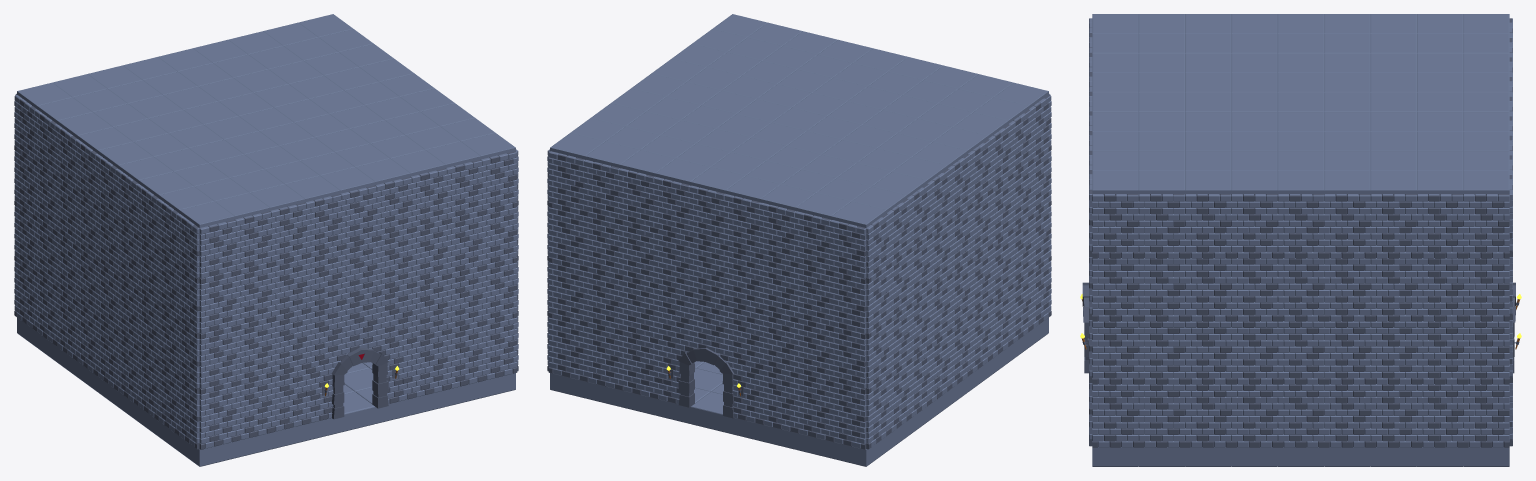
The model's file is CombatRoom_9x9.gltf.
3 renders of one model, left to right at view 1: azimuth 30°, elevation 25°; view 2: azimuth 150°, elevation 25°; view 3: azimuth 270°, elevation 25°, orthographic. The views are drawn at different scales.
Visible parts, largest first — view 1: ArchOpen, Wall_S_0_T3, Wall_S_0_T1, Wall_S_0_T2, Wall_S_0_T0, Wall_S_2_T3, Wall_S_3_T3, Wall_S_4_T3, Wall_S_6_T3, Wall_S_8_T3, Wall_S_5_T3, Wall_S_7_T3 (+149 smaller); view 2: ArchOpen.001, Wall_N_0_T3, Wall_N_0_T1, Wall_N_0_T2, Wall_N_0_T0, Wall_N_2_T3, Wall_N_3_T3, Wall_N_4_T3, Wall_N_6_T3, Wall_N_8_T3, Wall_N_5_T3, Wall_N_7_T3 (+148 smaller); view 3: Wall_E_4_T3, Wall_E_4_T0, Wall_E_4_T1, Wall_E_4_T2, Wall_E_2_T3, Wall_E_6_T3, Wall_E_0_T3, Wall_E_3_T3, Wall_E_5_T3, Wall_E_8_T3, Wall_E_1_T3, Wall_E_7_T3 (+115 smaller).
Part boxes in pixels (x1=…): ArchOpen: x1=306, y1=343, x2=411, y2=423; Wall_S_0_T3: x1=199, y1=219, x2=236, y2=284; Wall_S_0_T1: x1=199, y1=331, x2=236, y2=394; Wall_S_0_T2: x1=199, y1=276, x2=236, y2=339; Wall_S_0_T0: x1=199, y1=386, x2=236, y2=449; Wall_S_2_T3: x1=269, y1=202, x2=306, y2=266; Wall_S_3_T3: x1=305, y1=194, x2=341, y2=258; Wall_S_4_T3: x1=340, y1=185, x2=376, y2=249; Wall_S_6_T3: x1=410, y1=168, x2=447, y2=232; Wall_S_8_T3: x1=481, y1=151, x2=517, y2=215; Wall_S_5_T3: x1=375, y1=177, x2=411, y2=241; Wall_S_7_T3: x1=445, y1=159, x2=482, y2=224; ArchOpen.001: x1=654, y1=343, x2=759, y2=423; Wall_N_0_T3: x1=829, y1=219, x2=866, y2=284; Wall_N_0_T1: x1=829, y1=331, x2=866, y2=394; Wall_N_0_T2: x1=829, y1=276, x2=866, y2=339; Wall_N_0_T0: x1=829, y1=386, x2=866, y2=449; Wall_N_2_T3: x1=759, y1=202, x2=796, y2=266; Wall_N_3_T3: x1=724, y1=194, x2=760, y2=258; Wall_N_4_T3: x1=689, y1=185, x2=725, y2=249; Wall_N_6_T3: x1=618, y1=168, x2=655, y2=232; Wall_N_8_T3: x1=548, y1=151, x2=584, y2=215; Wall_N_5_T3: x1=654, y1=177, x2=690, y2=241; Wall_N_7_T3: x1=583, y1=159, x2=620, y2=224; Wall_E_4_T3: x1=1277, y1=194, x2=1324, y2=258; Wall_E_4_T0: x1=1277, y1=384, x2=1324, y2=447; Wall_E_4_T1: x1=1277, y1=321, x2=1324, y2=384; Wall_E_4_T2: x1=1277, y1=258, x2=1324, y2=321; Wall_E_2_T3: x1=1185, y1=194, x2=1231, y2=258; Wall_E_6_T3: x1=1370, y1=194, x2=1416, y2=258; Wall_E_0_T3: x1=1092, y1=194, x2=1138, y2=258; Wall_E_3_T3: x1=1231, y1=194, x2=1277, y2=258; Wall_E_5_T3: x1=1324, y1=194, x2=1370, y2=258; Wall_E_8_T3: x1=1463, y1=194, x2=1509, y2=258; Wall_E_1_T3: x1=1138, y1=194, x2=1184, y2=258; Wall_E_7_T3: x1=1417, y1=194, x2=1463, y2=258.
Size of the model in its own units: 18.3 by 13.2 by 19.04.
